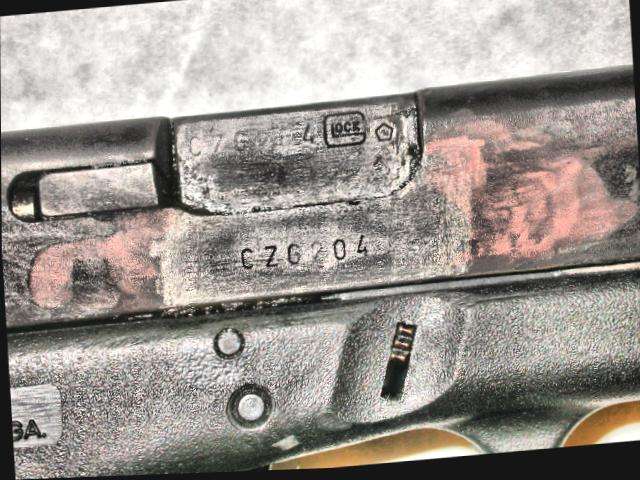pistol: (0, 66, 640, 480)
